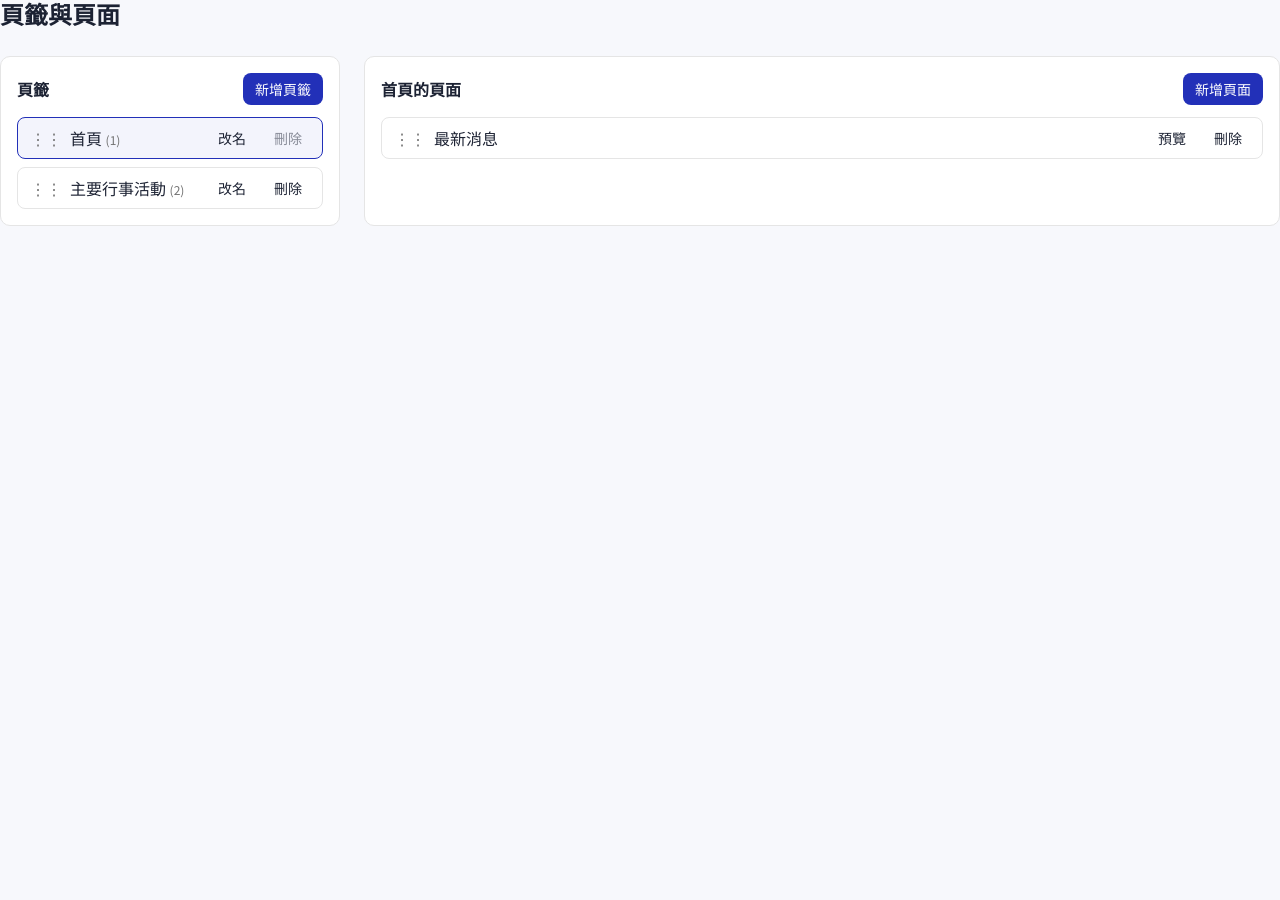
Test: 新增頁籤後自動選取
This screenshot has width=1280, height=900.
Click the button "新增頁籤" at (283, 89), box [243,73,323,105]
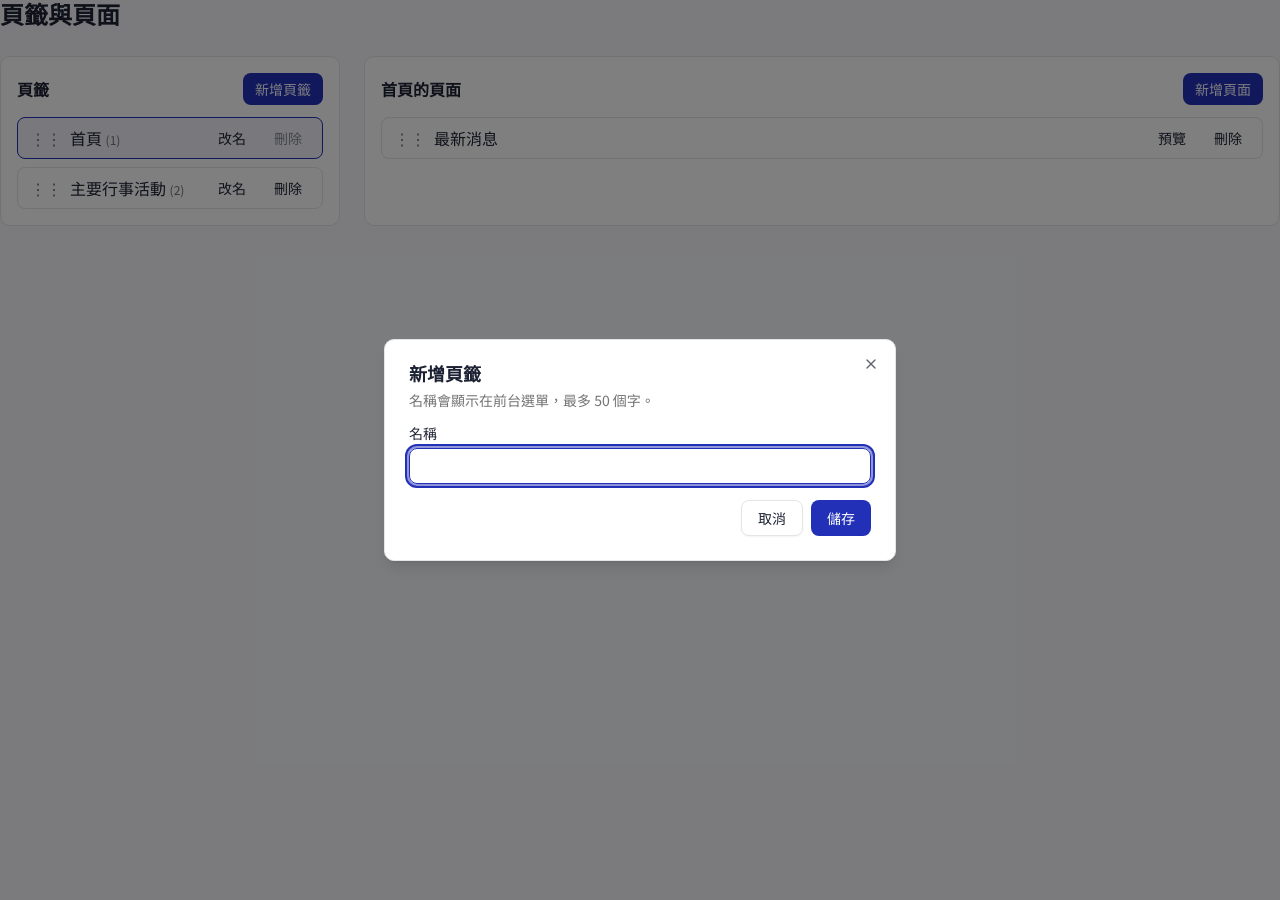
Type "關於我們" into the field labelled "名稱" at (640, 466), box [409,448,871,484]
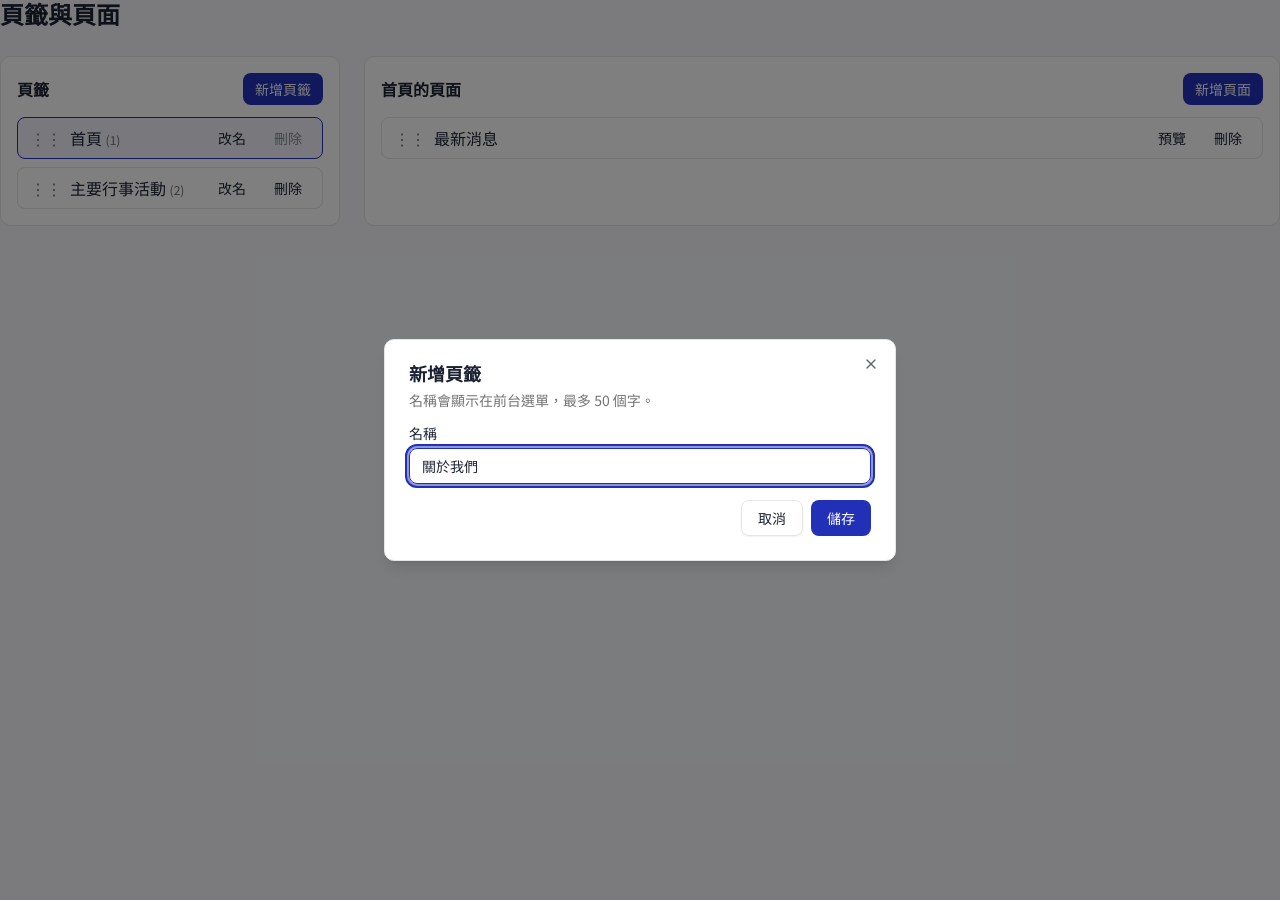
Click the button "儲存" at (841, 518), box [811,500,871,536]
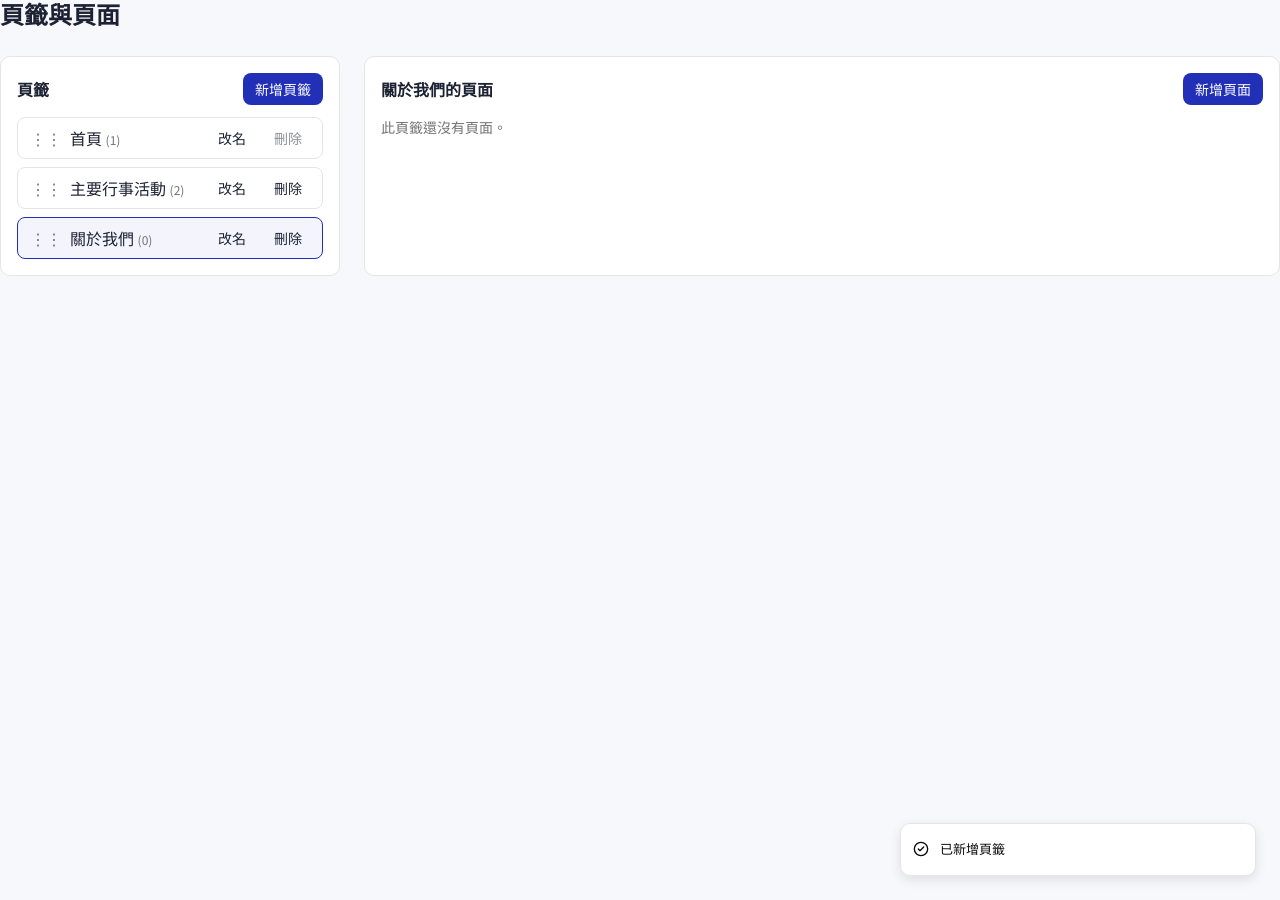
Expected: the text "已新增頁籤" is shown, [940,840,1005,859]
Expected: the text "此頁籤還沒有頁面。" is shown, [381,117,507,137]
